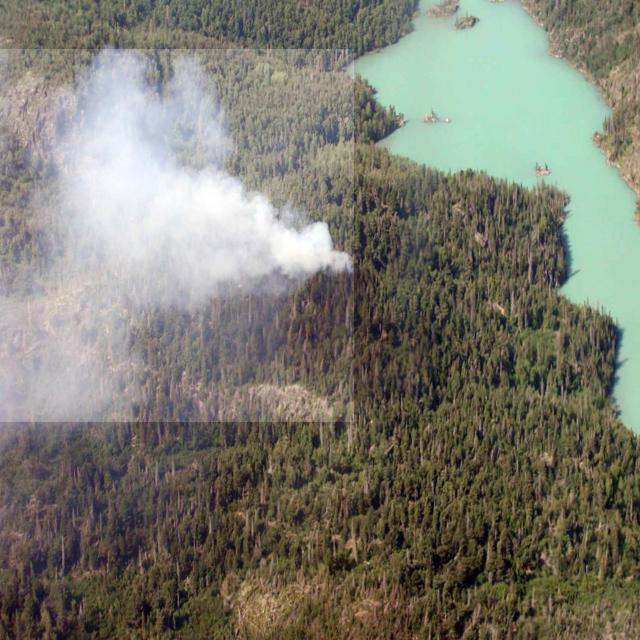Smoke: (0, 49, 354, 422)
